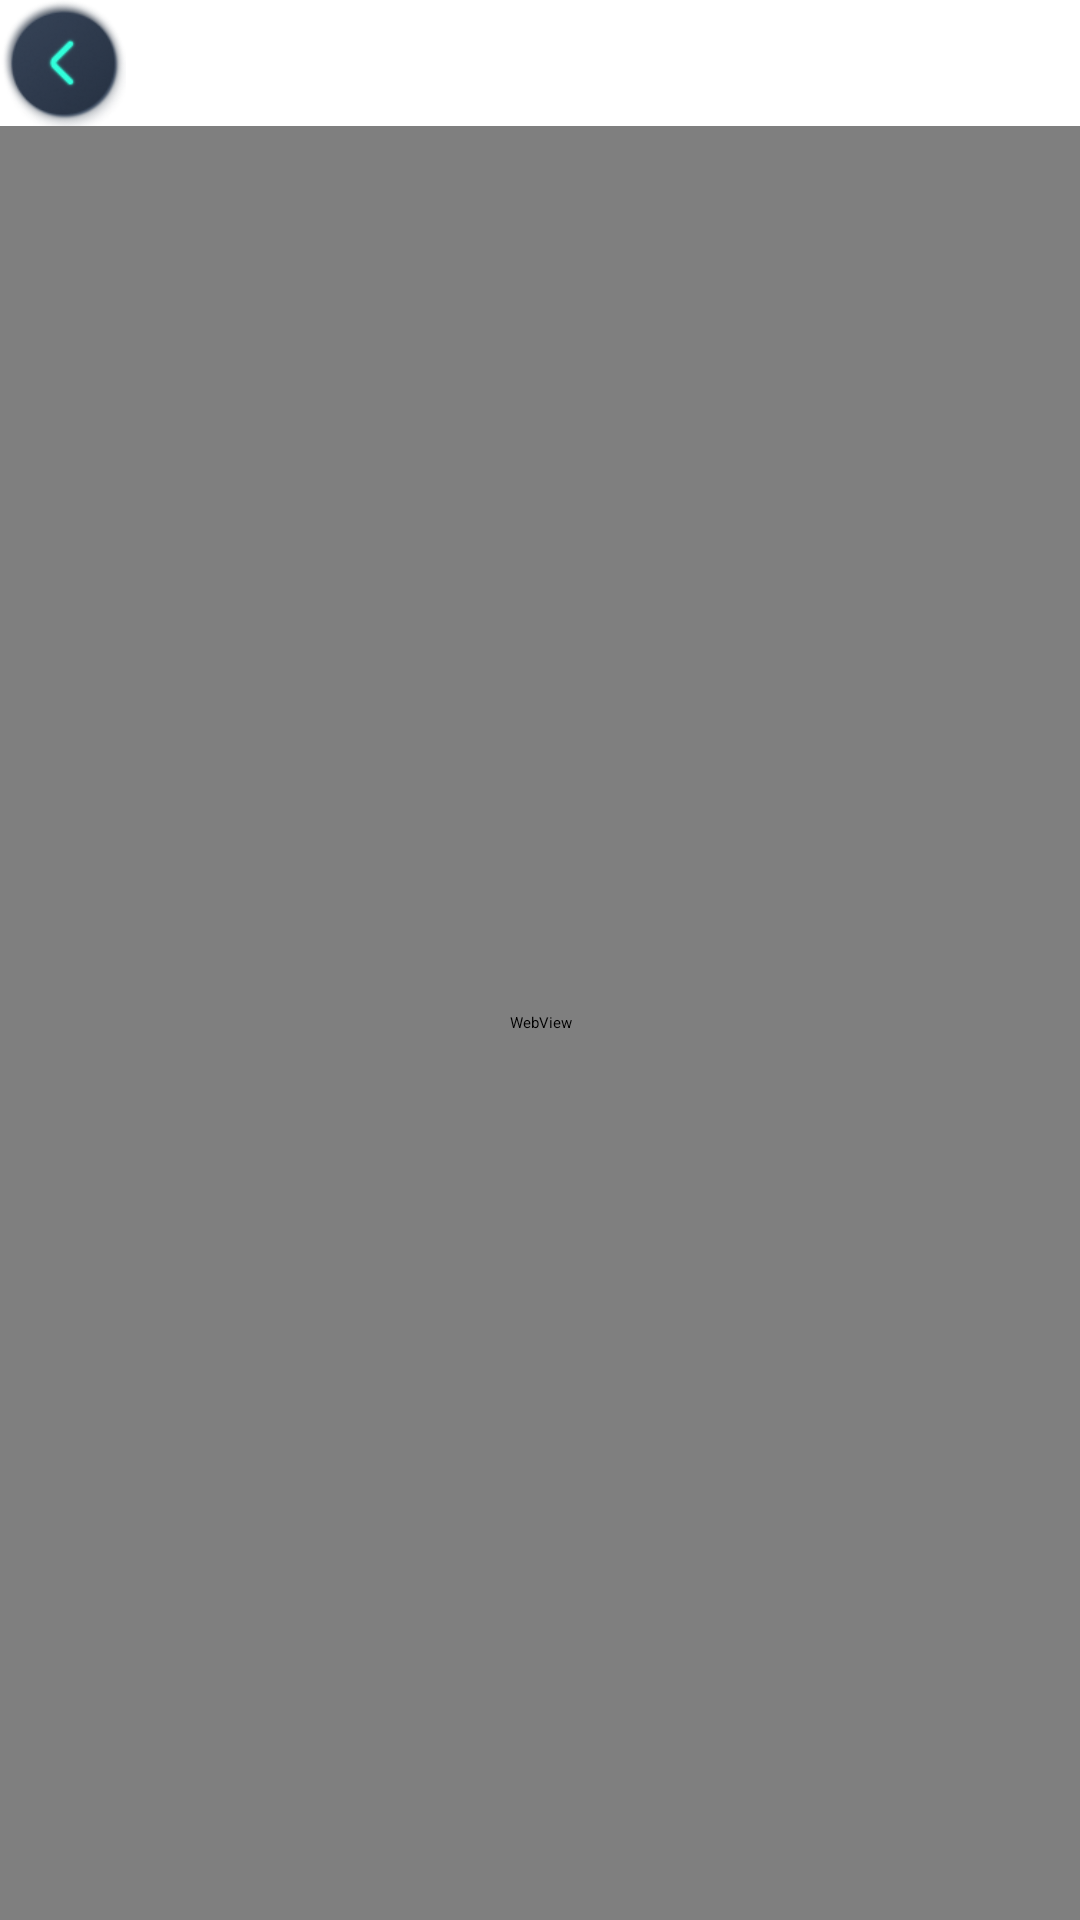

Point at icon controls on the screen. Image size 1080w x 1920h, points as (x,y).
back arrow: (63,64)
